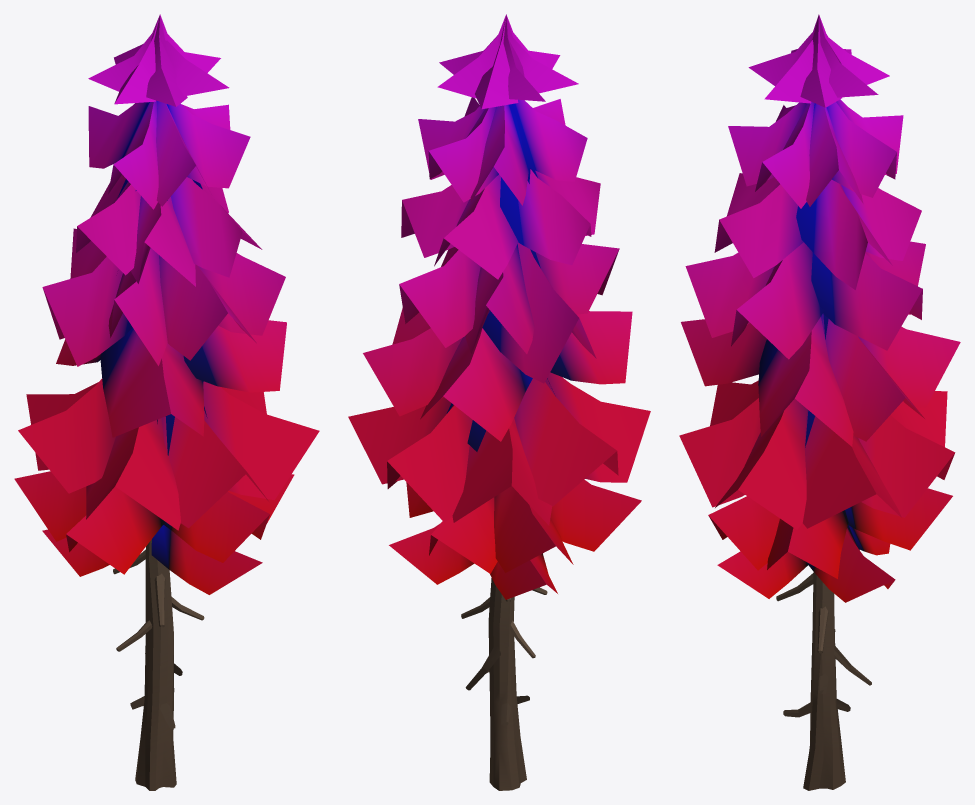
File: PT_Pine_Tree_03_green.fbx
3 renders of one model, left to right at view 1: azimuth 30°, elevation 25°; view 2: azimuth 150°, elevation 25°; view 3: azimuth 270°, elevation 25°, orthographic.
Visible parts, largest first — view 1: PT_Pine_Tree_03_green_LOD0; view 2: PT_Pine_Tree_03_green_LOD0; view 3: PT_Pine_Tree_03_green_LOD0.
Boxes of the visible parts, left/top/right/bottom form: PT_Pine_Tree_03_green_LOD0: left=14, top=14, right=319, bottom=790; PT_Pine_Tree_03_green_LOD0: left=348, top=14, right=650, bottom=790; PT_Pine_Tree_03_green_LOD0: left=679, top=14, right=960, bottom=790.
Size of what is drawn, in the model's own units: 321 by 917 by 303.
